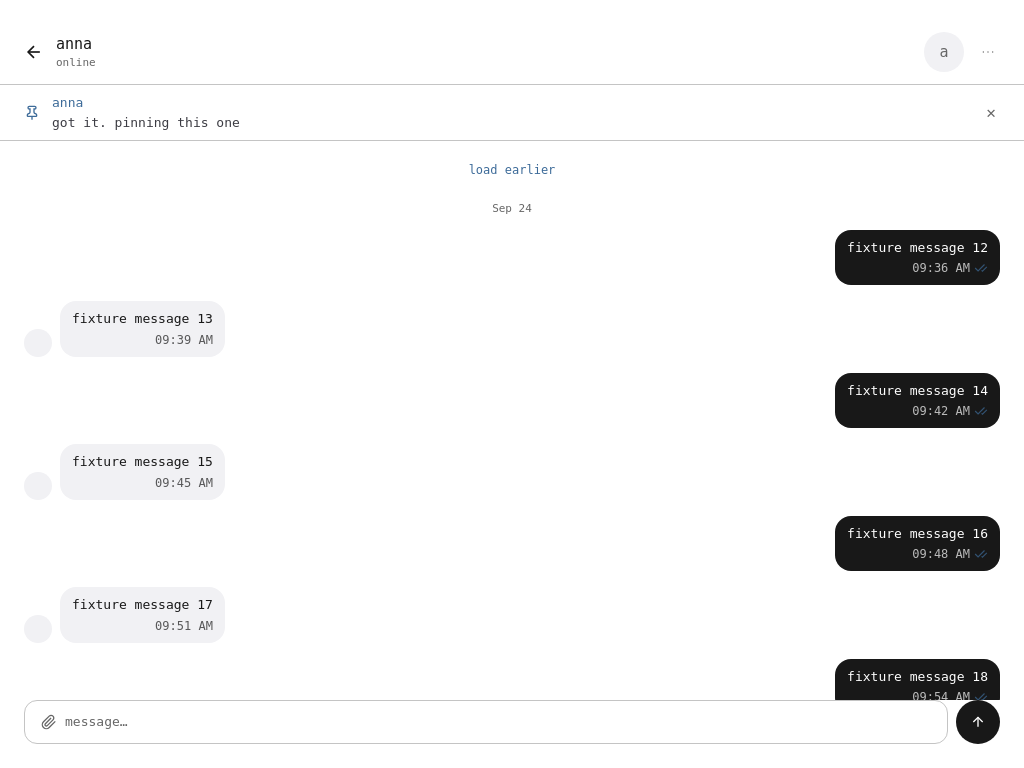
S5 chat view › failed message action surfaces an error, not silence
Right-click the element showing "fixture message 12 09:36 AM" at point(918, 257), box [835,230,1000,285]
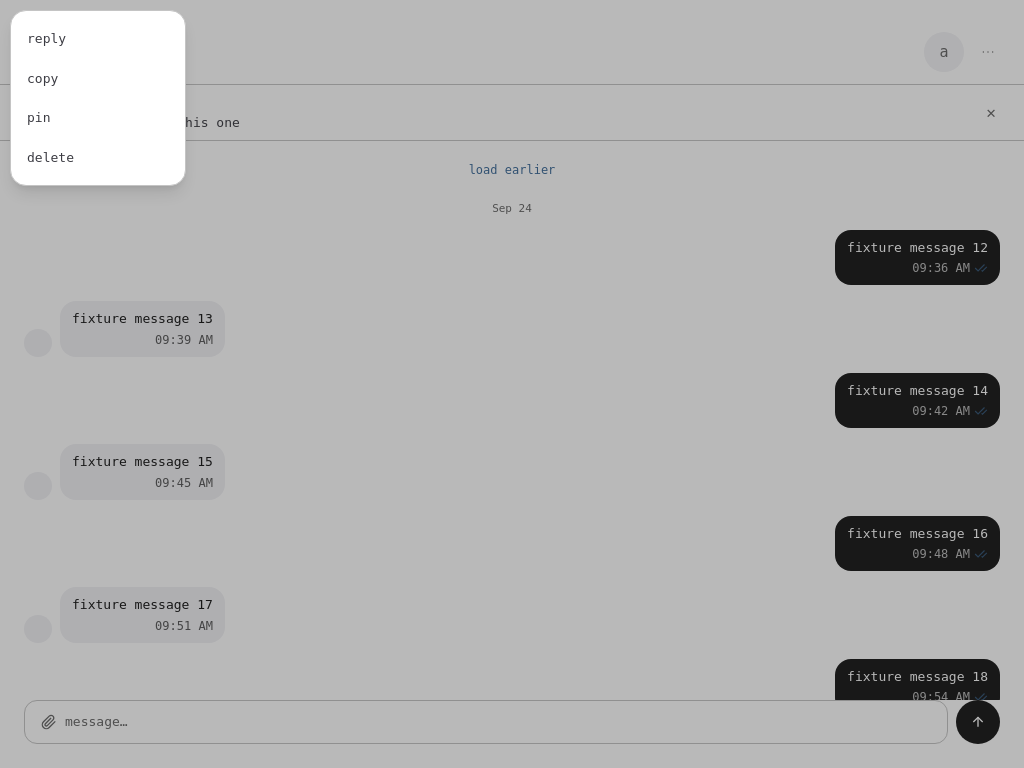
Click the button with test id "mi-delete" at point(98, 157), box [11,138,185,177]
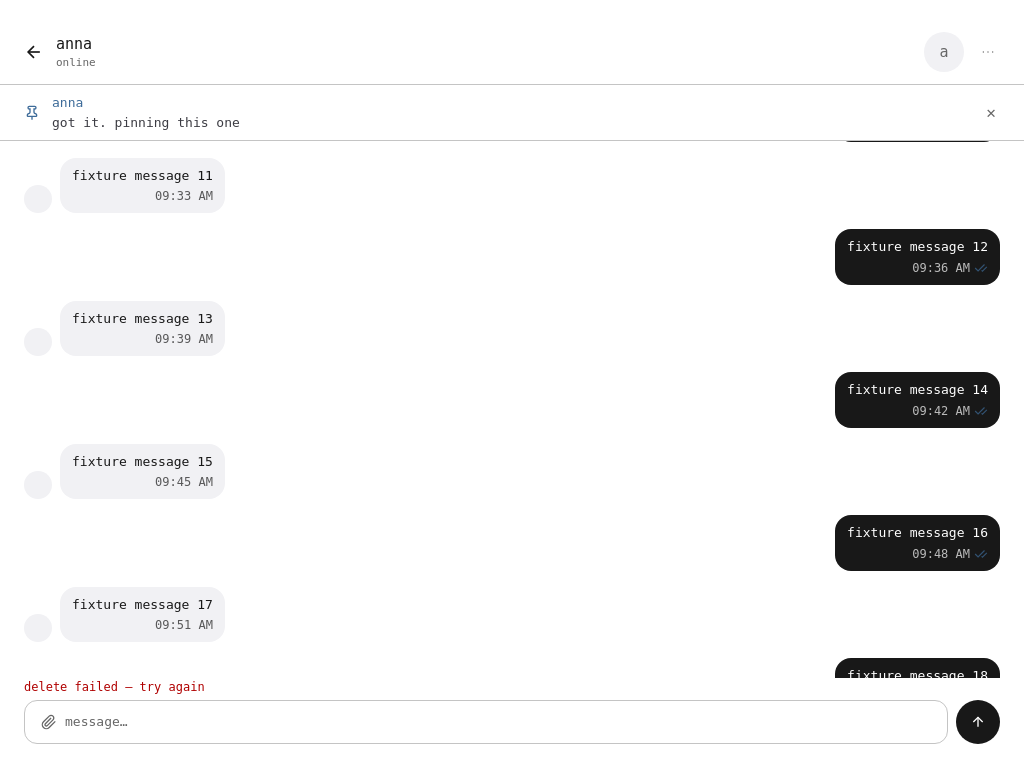
Expected: the text with test id "action-error" shows "delete failed", [24,680,205,694]
